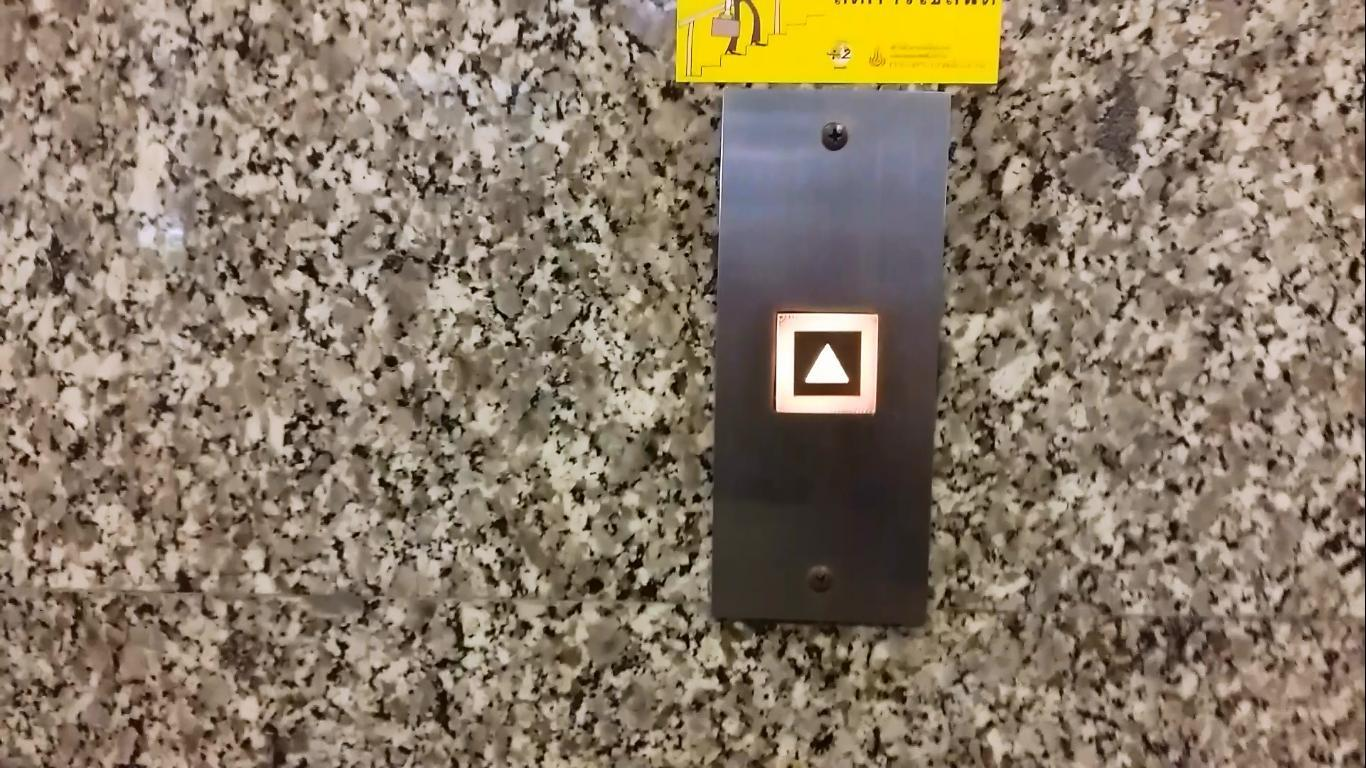up: (770, 308, 881, 414)
